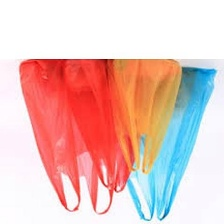plastic_bag: (13, 53, 118, 219), (123, 63, 221, 223), (65, 57, 141, 195), (108, 58, 186, 176)
